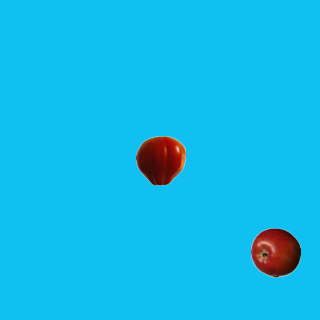Apple Braeburn: (250, 227, 300, 277)
Tomato 1: (135, 135, 185, 185)
